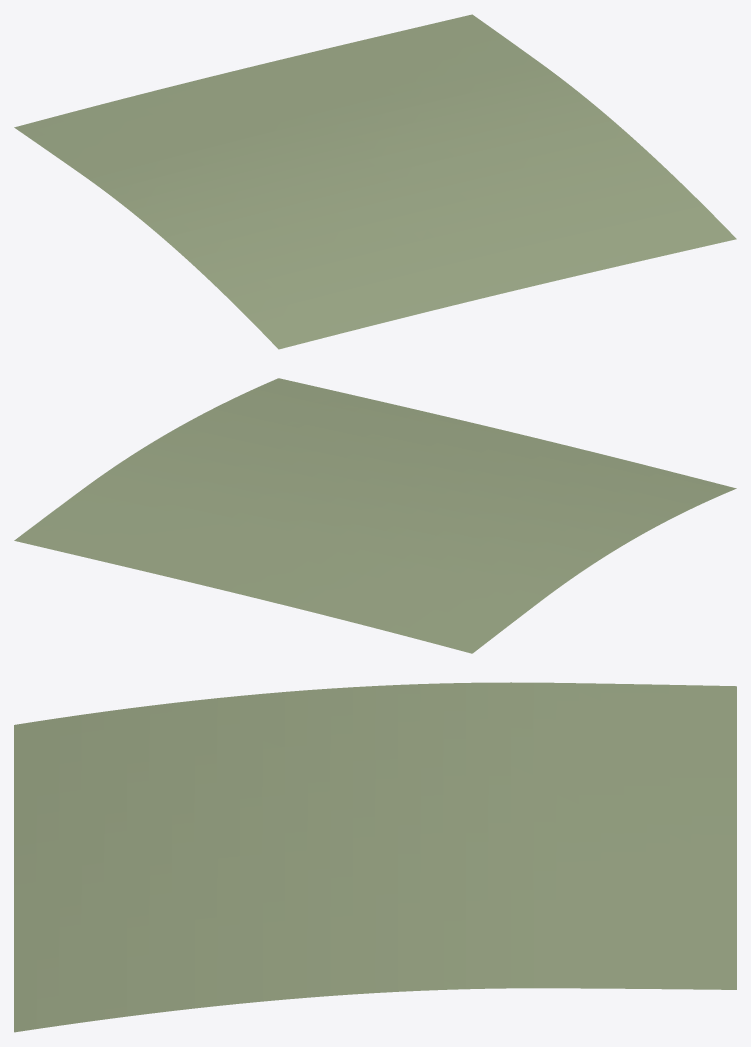
Rendered from expanse-29-17.glb.
3 views of the same model, one above another, from view 1: azimuth 30°, elevation 25°; view 2: azimuth 150°, elevation 25°; view 3: azimuth 270°, elevation 25° (orthographic). The views are drawn at different scales.
Parts seen in each view (by area): view 1: expanse-29-17; view 2: expanse-29-17; view 3: expanse-29-17.
Part boxes in pixels (box(x1,y1,x2,y2)): expanse-29-17: box(14, 14, 736, 349); expanse-29-17: box(14, 378, 736, 653); expanse-29-17: box(14, 682, 736, 1032).
Size of the model in its own units: 256 by 18.56 by 256.
